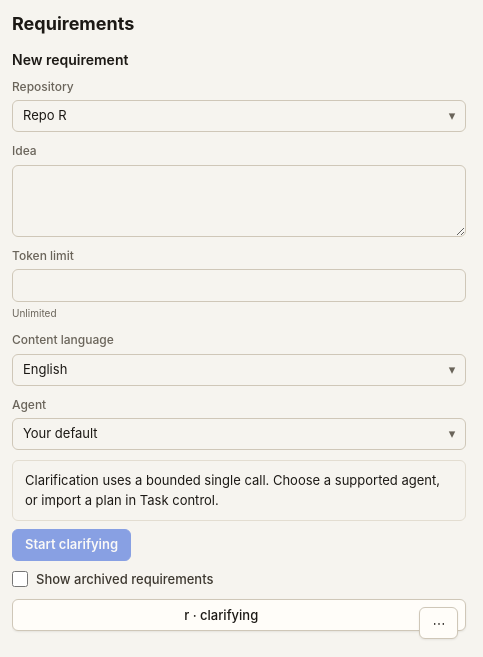
Test: closes the requirement list's menu on a press outside it
Click the button named "More actions" at (439, 623), box [419,607,458,639]
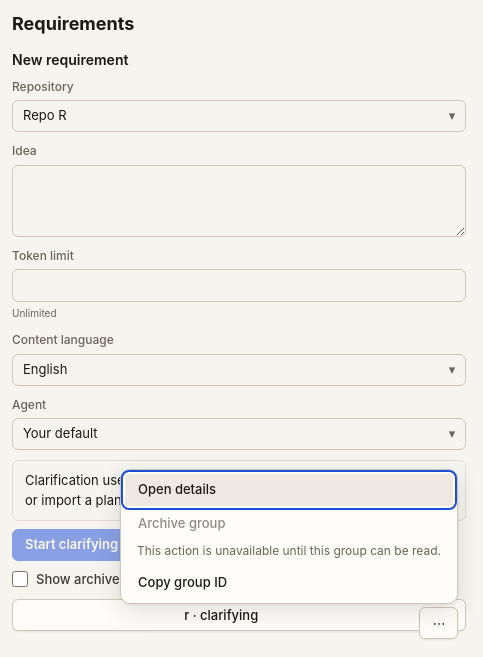
Check: the menu is shown, box [120,469,458,604]
Press the mouse on the heading "Requirements" at (73, 24), box [12,13,134,34]
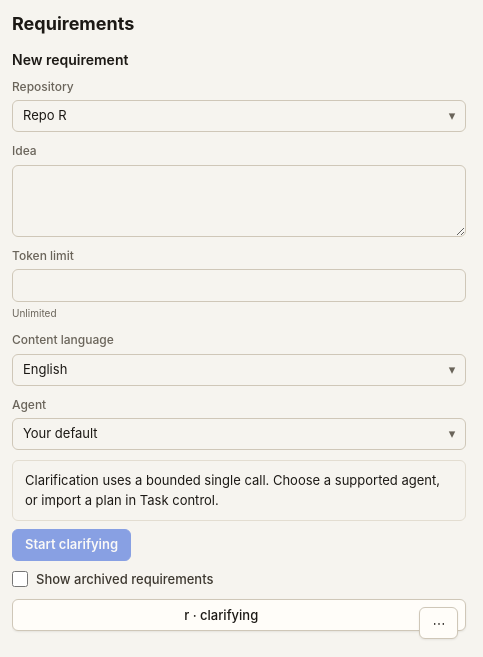
Check: the menu is gone
